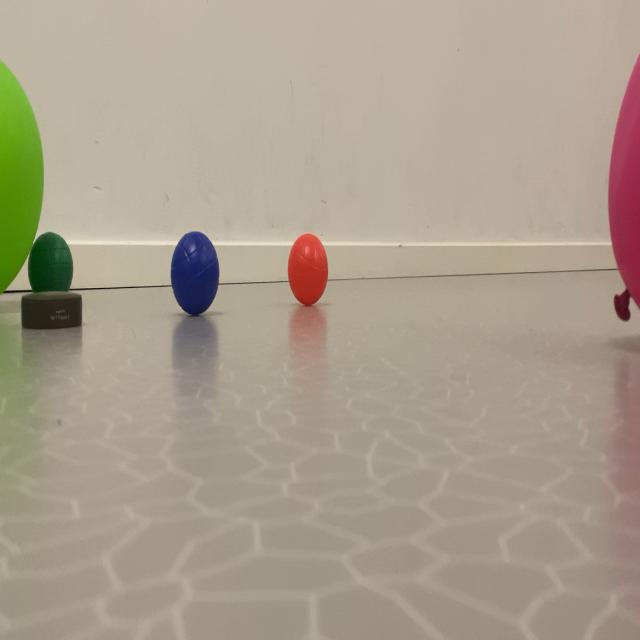blue ball: (23, 216, 342, 350)
